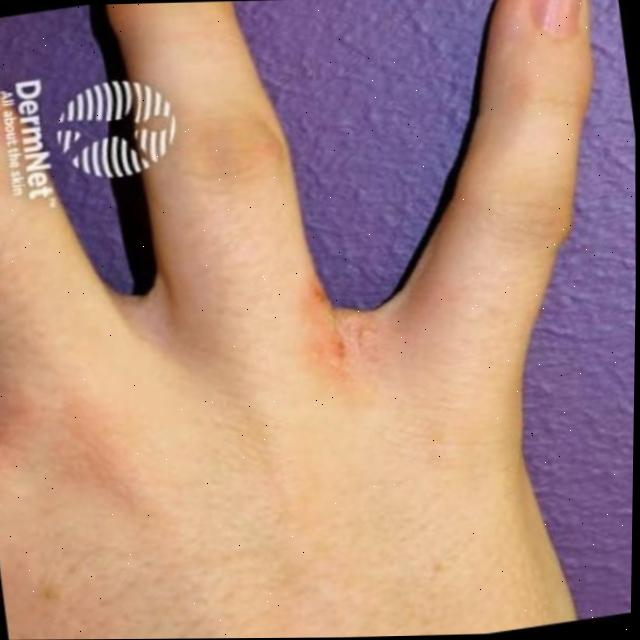Eczema: (305, 291, 383, 375)
